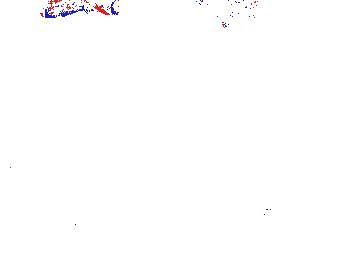redtail glassfish: (40, 1, 106, 20), (196, 1, 261, 19)
